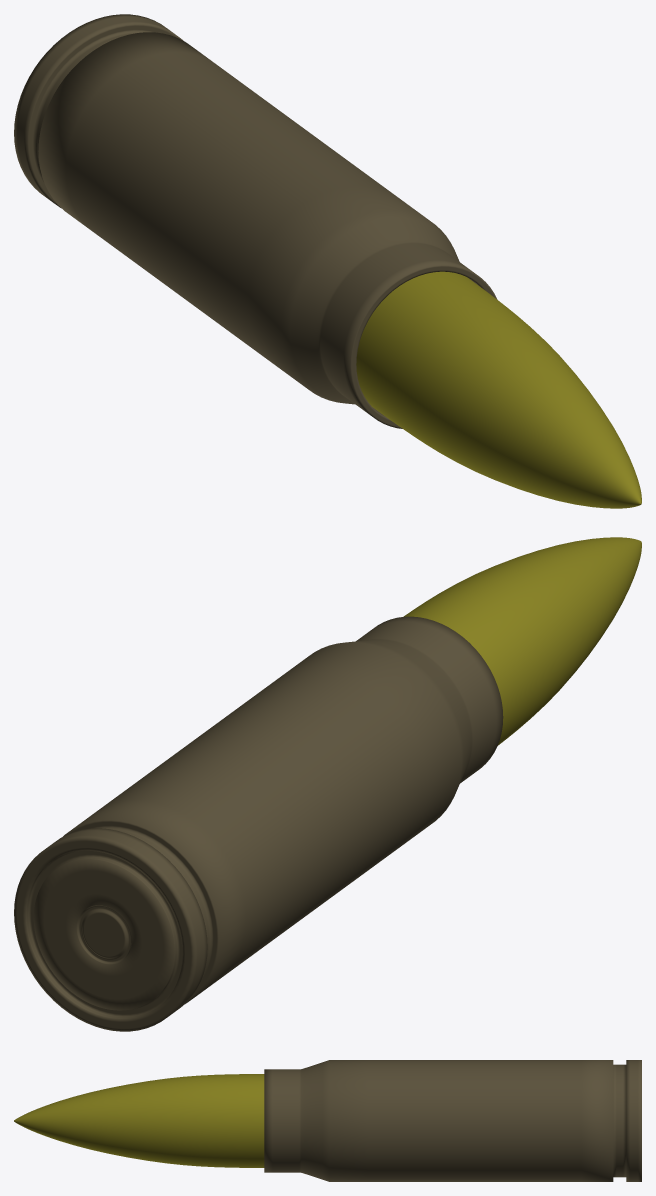
File: Bullet_V0.fbx
The picture shows the model from 3 angles, top to bottom: view 1: azimuth 30°, elevation 25°; view 2: azimuth 150°, elevation 25°; view 3: azimuth 270°, elevation 25°; orthographic projection. The views are drawn at different scales.
Visible parts, largest first — view 1: Case, Head; view 2: Case, Head; view 3: Case, Head.
Boxes of the visible parts, x1,y1,x2,y2 form: Case: [14, 14, 497, 428]; Head: [356, 271, 641, 508]; Case: [14, 616, 503, 1031]; Head: [403, 537, 641, 745]; Case: [264, 1060, 641, 1181]; Head: [14, 1074, 264, 1167].
Bounding box in the file's own units: 0.1665 × 0.1665 × 0.8584.
